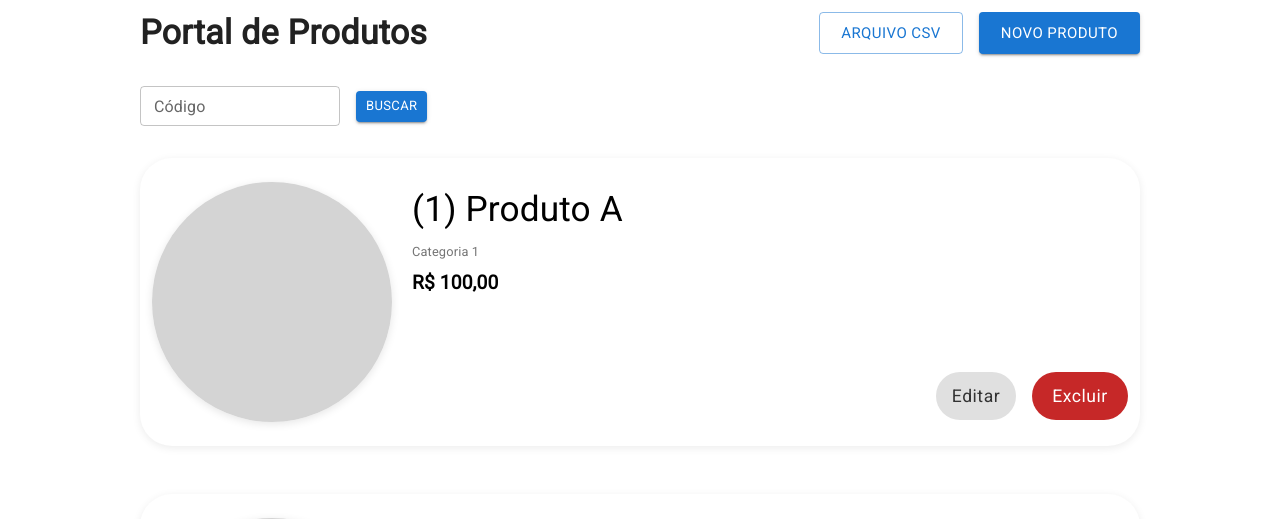
Test: Página de listagem de produtos › filtra produtos corretamente pelo campo de busca
The width and height of the screenshot is (1280, 519).
Type "2" into the field with placeholder "Digite o código do produto...". click: (240, 106)
box: [140,86,340,126]
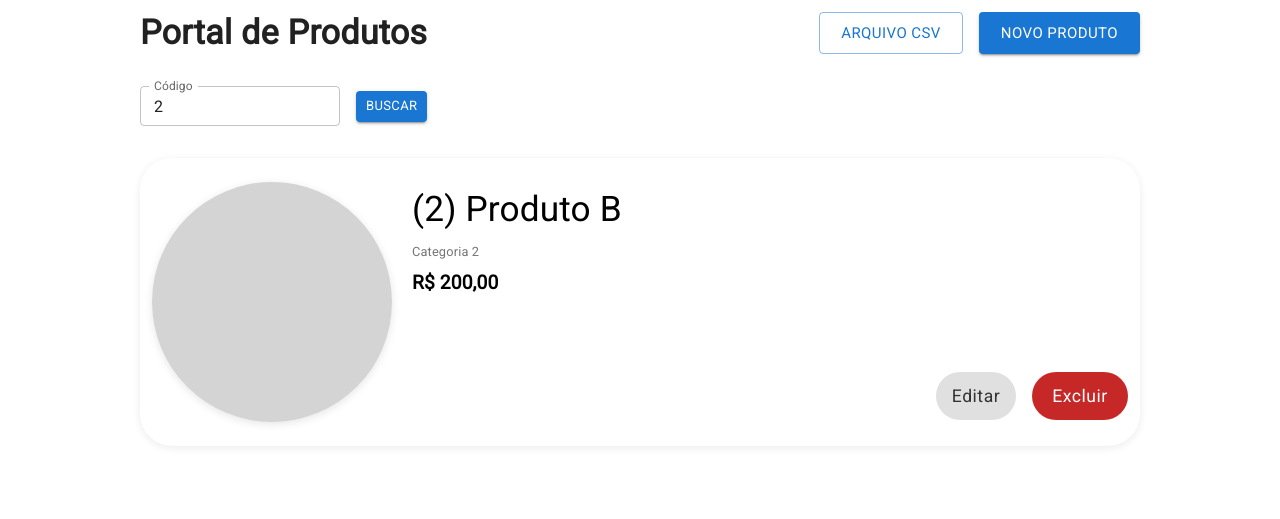
Expected: the text "(2) Produto B" is shown, [412,188,622,230]
Result: the text "(1) Produto A" is gone
